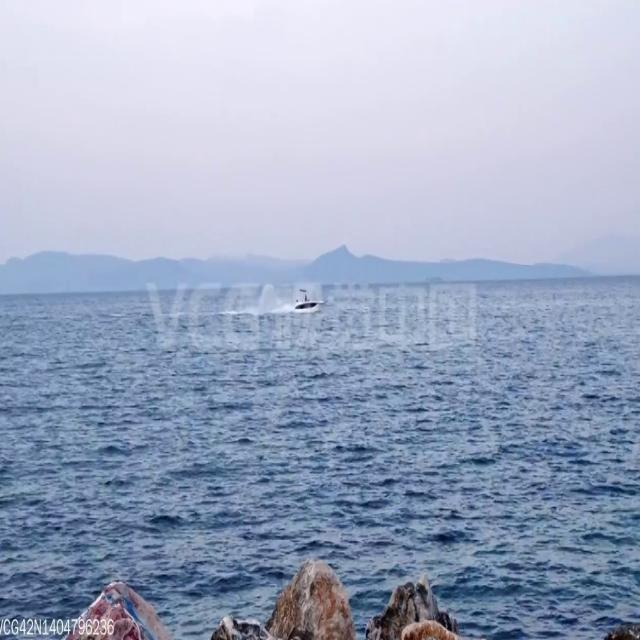houseboat: (292, 286, 324, 315)
